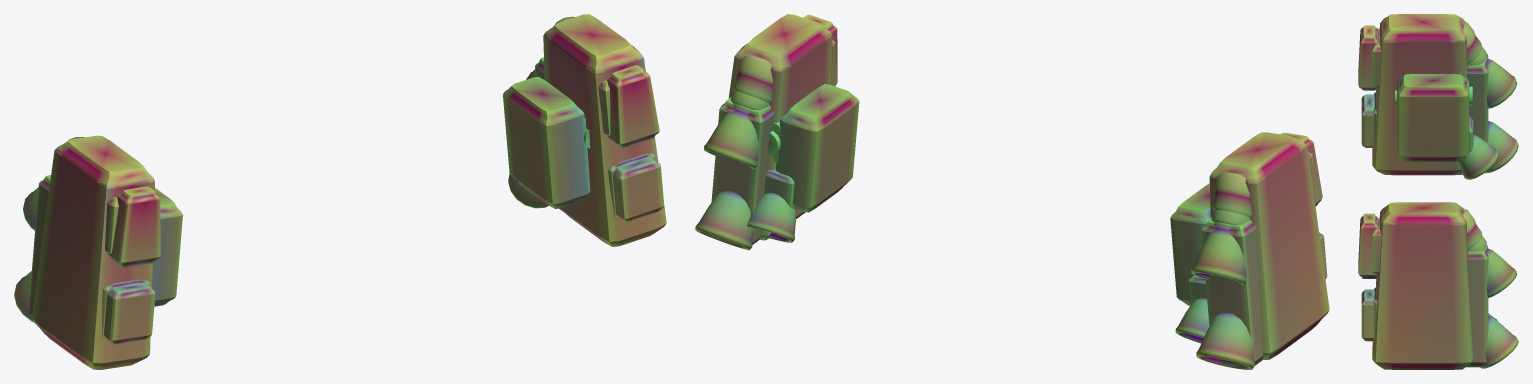
Rendered from llm_gen_leg_thrusters_051_b06690.glb.
The picture shows the model from 3 angles, left to right: view 1: azimuth 30°, elevation 25°; view 2: azimuth 150°, elevation 25°; view 3: azimuth 270°, elevation 25°; orthographic projection. The views are drawn at different scales.
Visible parts, largest first — view 1: outer_shin_armor_0_wing_white_l, outer_shin_armor_0_wing_white_r, adapter_calf_clamp_r, knee_guard_blade_2_gold_l, knee_guard_blade_2_gold_r, lower_shin_bumper_4_crimson_gloss_l, lower_shin_bumper_4_crimson_gloss_r, adapter_calf_clamp_l, rear_thruster_manifold_dark_5_adapter_dark_l, rear_surge_bell_bot_7_vernier_bell_vernier_l, addon_leg_bell_9_vernier_bell_vernier_r, knee_guard_adapter_dark_1_adapter_dark_l (+1 smaller); view 2: outer_shin_armor_0_wing_white_l, adapter_calf_clamp_r, outer_shin_armor_0_wing_white_r, rear_thruster_manifold_dark_5_adapter_dark_l, rear_thruster_manifold_dark_5_adapter_dark_r, adapter_calf_clamp_l, rear_surge_bell_bot_7_vernier_bell_vernier_l, rear_surge_bell_bot_7_vernier_bell_vernier_r, rear_surge_bell_top_6_vernier_bell_vernier_r, rear_surge_bell_top_6_vernier_bell_vernier_l, addon_leg_bell_9_vernier_bell_vernier_r, rear_surge_bell_top_6_vernier_bell_gimbal_collar_dark_r (+4 smaller); view 3: outer_shin_armor_0_wing_white_r, outer_shin_armor_0_wing_white_l, adapter_calf_clamp_l, rear_thruster_manifold_dark_5_adapter_dark_r, rear_thruster_manifold_dark_5_adapter_dark_l, rear_surge_bell_bot_7_vernier_bell_vernier_r, addon_leg_bell_9_vernier_bell_vernier_l, rear_surge_bell_top_6_vernier_bell_vernier_l, knee_guard_blade_2_gold_l, knee_guard_blade_2_gold_r, rear_surge_bell_top_6_vernier_bell_vernier_r, rear_surge_bell_bot_7_vernier_bell_vernier_l (+9 smaller).
Part boxes in pixels (x1,y1,x2,y2): outer_shin_armor_0_wing_white_l: (31, 135, 154, 369); outer_shin_armor_0_wing_white_r: (543, 14, 666, 246); adapter_calf_clamp_r: (503, 77, 590, 208); knee_guard_blade_2_gold_l: (108, 186, 160, 267); knee_guard_blade_2_gold_r: (607, 65, 659, 148); lower_shin_bumper_4_crimson_gloss_l: (103, 283, 155, 344); lower_shin_bumper_4_crimson_gloss_r: (612, 157, 664, 221); adapter_calf_clamp_l: (152, 188, 182, 306); rear_thruster_manifold_dark_5_adapter_dark_l: (29, 175, 50, 316); rear_surge_bell_bot_7_vernier_bell_vernier_l: (14, 271, 33, 322); addon_leg_bell_9_vernier_bell_vernier_r: (508, 173, 548, 208); knee_guard_adapter_dark_1_adapter_dark_l: (105, 197, 118, 254); outer_shin_armor_0_wing_white_l: (1209, 132, 1329, 359); adapter_calf_clamp_r: (772, 84, 859, 212); outer_shin_armor_0_wing_white_r: (728, 14, 832, 240); rear_thruster_manifold_dark_5_adapter_dark_l: (1201, 218, 1263, 367); rear_thruster_manifold_dark_5_adapter_dark_r: (711, 97, 774, 245); adapter_calf_clamp_l: (1170, 183, 1210, 306); rear_surge_bell_bot_7_vernier_bell_vernier_l: (1196, 312, 1254, 369); rear_surge_bell_bot_7_vernier_bell_vernier_r: (695, 191, 753, 250); rear_surge_bell_top_6_vernier_bell_vernier_r: (704, 103, 758, 168); rear_surge_bell_top_6_vernier_bell_vernier_l: (1191, 222, 1246, 284); addon_leg_bell_9_vernier_bell_vernier_r: (747, 193, 795, 242); rear_surge_bell_top_6_vernier_bell_gimbal_collar_dark_r: (733, 55, 772, 103); outer_shin_armor_0_wing_white_r: (1372, 202, 1473, 369); outer_shin_armor_0_wing_white_l: (1372, 14, 1469, 175); adapter_calf_clamp_l: (1397, 74, 1469, 161); rear_thruster_manifold_dark_5_adapter_dark_r: (1466, 247, 1488, 367); rear_thruster_manifold_dark_5_adapter_dark_l: (1467, 53, 1488, 142); rear_surge_bell_bot_7_vernier_bell_vernier_r: (1480, 316, 1518, 368); addon_leg_bell_9_vernier_bell_vernier_l: (1457, 134, 1498, 179); rear_surge_bell_top_6_vernier_bell_vernier_l: (1484, 55, 1517, 108); knee_guard_blade_2_gold_l: (1358, 25, 1378, 90); knee_guard_blade_2_gold_r: (1358, 213, 1378, 278); rear_surge_bell_top_6_vernier_bell_vernier_r: (1483, 244, 1516, 298); rear_surge_bell_bot_7_vernier_bell_vernier_l: (1485, 121, 1518, 173).
Size of the model in its own units: 79.29 by 25.79 by 24.4.
